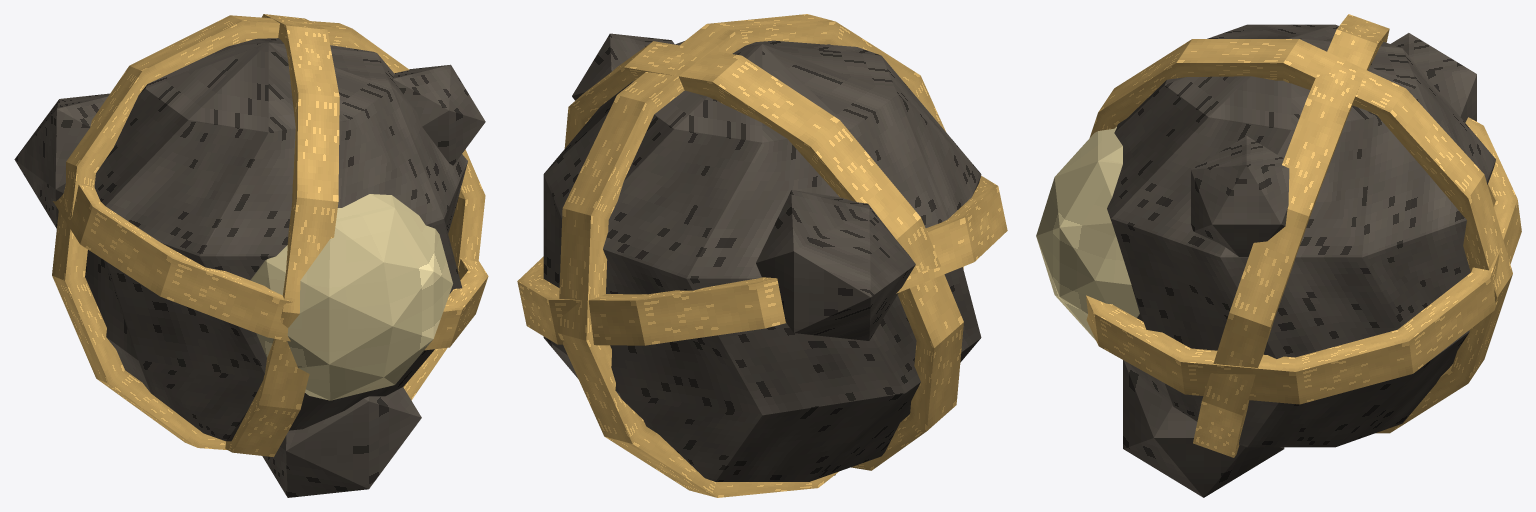
File: proj_ember_bomb.gltf
3 views of the same model, side by side, from view 1: azimuth 30°, elevation 25°; view 2: azimuth 150°, elevation 25°; view 3: azimuth 270°, elevation 25° (orthographic). The views are drawn at different scales.
Parts seen in each view (by area): view 1: shell, cracks; view 2: shell, cracks; view 3: shell, cracks.
Part boxes in pixels (left/top/right/bottom): shell: left=14, top=38, right=485, bottom=497; cracks: left=52, top=14, right=488, bottom=457; shell: left=543, top=33, right=981, bottom=481; cracks: left=517, top=14, right=1007, bottom=497; shell: left=1107, top=24, right=1495, bottom=497; cracks: left=1036, top=14, right=1521, bottom=457.
Size of the model in its own units: 0.63 by 0.6649 by 0.6663.
Materials: 2 (2 with a texture image).
